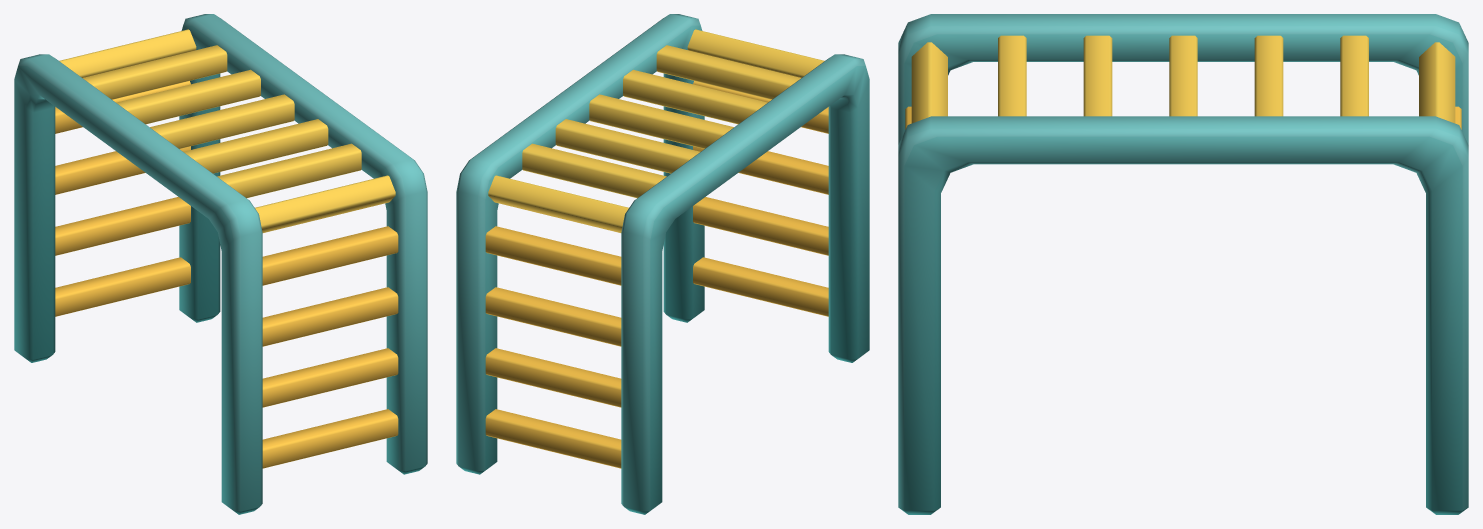
Rendered from monkeybar_A.glb.
3 renders of one model, left to right at view 1: azimuth 30°, elevation 25°; view 2: azimuth 150°, elevation 25°; view 3: azimuth 270°, elevation 25°, orthographic. The views are drawn at different scales.
Parts seen in each view (by area): view 1: monkeybar_A; view 2: monkeybar_A; view 3: monkeybar_A.
Boxes of the visible parts, bbox=[...] form: monkeybar_A: bbox=[14, 14, 427, 514]; monkeybar_A: bbox=[456, 14, 869, 514]; monkeybar_A: bbox=[898, 14, 1468, 514].
Size of the model in its own units: 2 by 3 by 4.
Materials: 1 (1 with a texture image).
